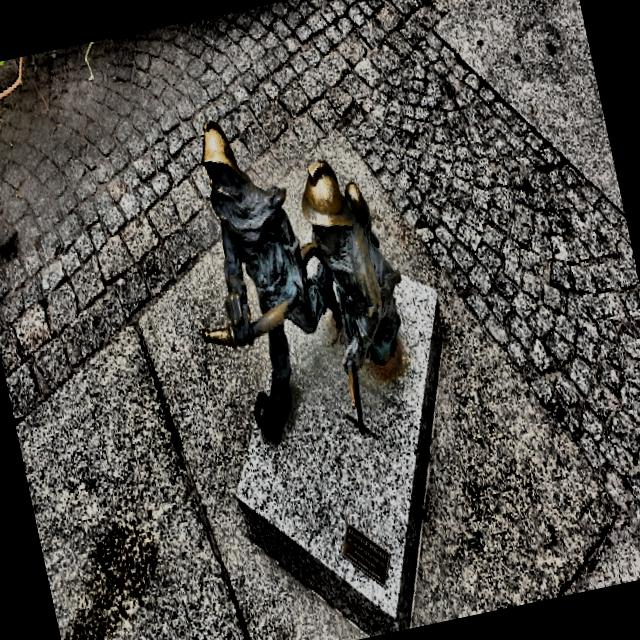Pozarki: (201, 119, 401, 435)
